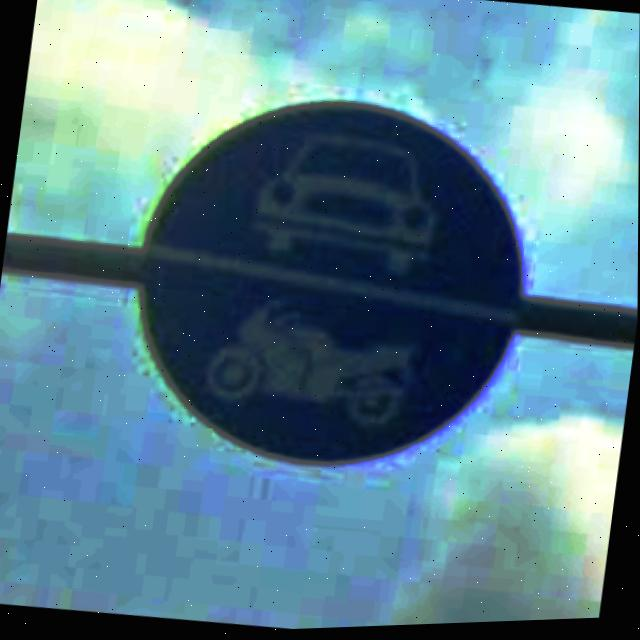carmotorcycle: (115, 72, 548, 497)
